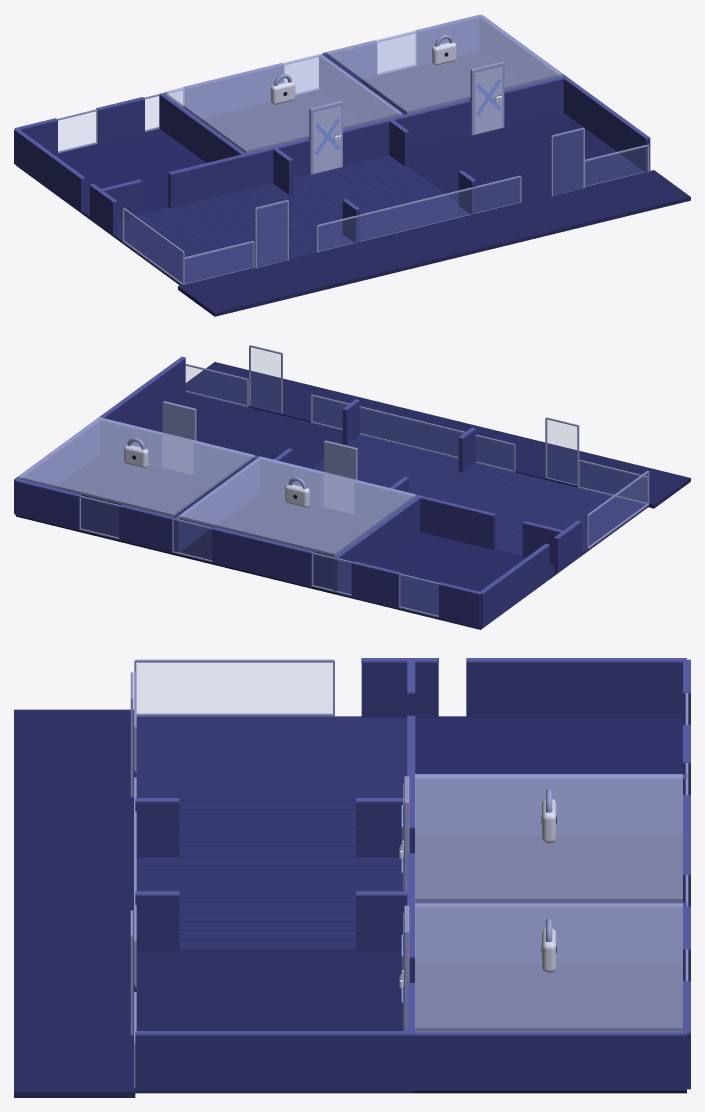
Rendered from villa.glb.
The picture shows the model from 3 angles, top to bottom: view 1: azimuth 30°, elevation 25°; view 2: azimuth 150°, elevation 25°; view 3: azimuth 270°, elevation 25°; orthographic projection. The views are drawn at different scales.
Parts seen in each view (by area): view 1: villa, terrace, floor_living, floor_kitchen, hiddenRoofB, hiddenRoofA, rail (×3), floor_dining, floor_bedroom, wallRight, floor_hiddenB, floor_hiddenA (+13 smaller); view 2: villa, terrace, hiddenRoofB, hiddenRoofA, floor_living, rail (×3), floor_hiddenB, floor_hiddenA, floor_bedroom, floor_kitchen, frame (×2), wallRight (+14 smaller); view 3: villa, terrace, hiddenRoofB, hiddenRoofA, floor_living, wallRight, floor_kitchen, floor_dining, floor_hiddenB, floor_hiddenA, floor_bedroom, winLeft.
Boxes of the visible parts, <box> form: villa: <box>14,15,650,281</box>; terrace: <box>178,170,690,316</box>; floor_living: <box>100,183,353,285</box>; floor_kitchen: <box>407,112,644,212</box>; hiddenRoofB: <box>325,14,562,113</box>; hiddenRoofA: <box>164,53,401,153</box>; rail (×3): <box>183,144,649,284</box>; floor_dining: <box>291,155,469,241</box>; floor_bedroom: <box>16,128,205,226</box>; wallRight: <box>480,18,650,171</box>; floor_hiddenB: <box>360,51,524,114</box>; floor_hiddenA: <box>200,90,365,152</box>; villa: <box>14,356,634,627</box>; terrace: <box>185,362,690,508</box>; hiddenRoofB: <box>18,417,254,516</box>; hiddenRoofA: <box>179,456,415,556</box>; floor_living: <box>427,463,648,568</box>; rail (×3): <box>185,363,648,504</box>; floor_hiddenB: <box>16,454,220,555</box>; floor_hiddenA: <box>175,493,379,594</box>; floor_bedroom: <box>335,532,564,629</box>; floor_kitchen: <box>139,392,344,475</box>; frame (×2): <box>162,401,357,513</box>; wallRight: <box>14,359,185,513</box>; villa: <box>135,658,690,1035</box>; terrace: <box>14,709,135,1097</box>; hiddenRoofB: <box>415,903,682,1032</box>; hiddenRoofA: <box>415,774,682,902</box>; floor_living: <box>135,716,407,855</box>; wallRight: <box>135,1036,686,1090</box>; floor_kitchen: <box>135,949,411,1093</box>; floor_dining: <box>136,856,403,949</box>; floor_hiddenB: <box>411,963,686,1093</box>; floor_hiddenA: <box>415,834,682,902</box>; floor_bedroom: <box>415,716,682,774</box>; winLeft: <box>134,659,334,716</box>.
Size of the model in its own units: 16.4 by 2.24 by 12.27.
